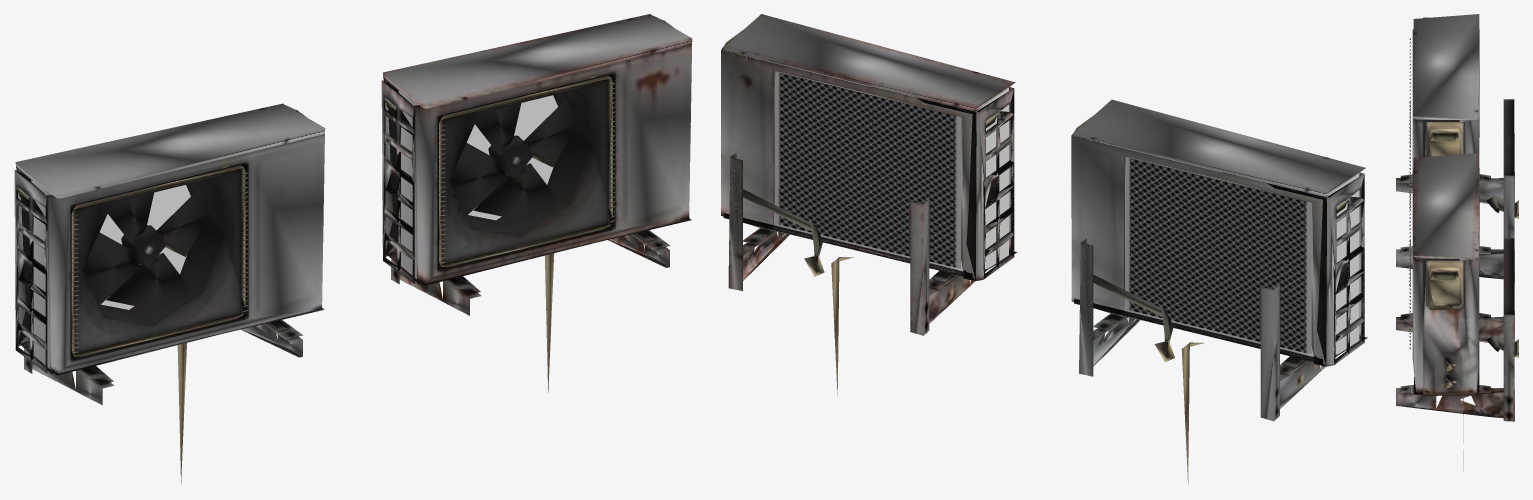
File: exterior_aircon_unit.glb
The picture shows the model from 3 angles, left to right: view 1: azimuth 30°, elevation 25°; view 2: azimuth 150°, elevation 25°; view 3: azimuth 270°, elevation 25°; orthographic projection. The views are drawn at different scales.
Parts seen in each view (by area): view 1: exterior_aircon_unit, exterior_aircon_unit_rusted; view 2: exterior_aircon_unit, exterior_aircon_unit_rusted; view 3: exterior_aircon_unit_rusted, exterior_aircon_unit.
Boxes of the visible parts, x1,y1,x2,y2 form: exterior_aircon_unit: [14, 103, 325, 484]; exterior_aircon_unit_rusted: [381, 14, 692, 392]; exterior_aircon_unit: [1071, 99, 1367, 484]; exterior_aircon_unit_rusted: [721, 14, 1016, 395]; exterior_aircon_unit_rusted: [1396, 153, 1518, 470]; exterior_aircon_unit: [1396, 14, 1518, 282].
Size of the model in its own units: 1.78 by 0.9214 by 0.3741.
4 materials, 4 textured.
